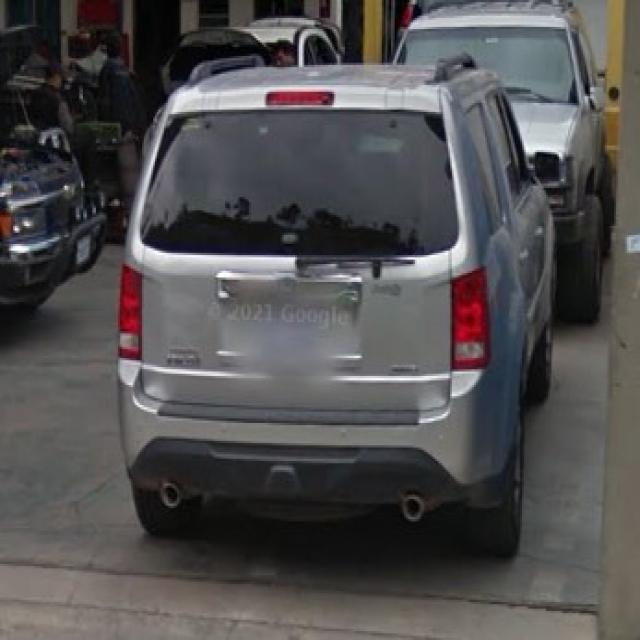Car: (132, 72, 540, 553)
